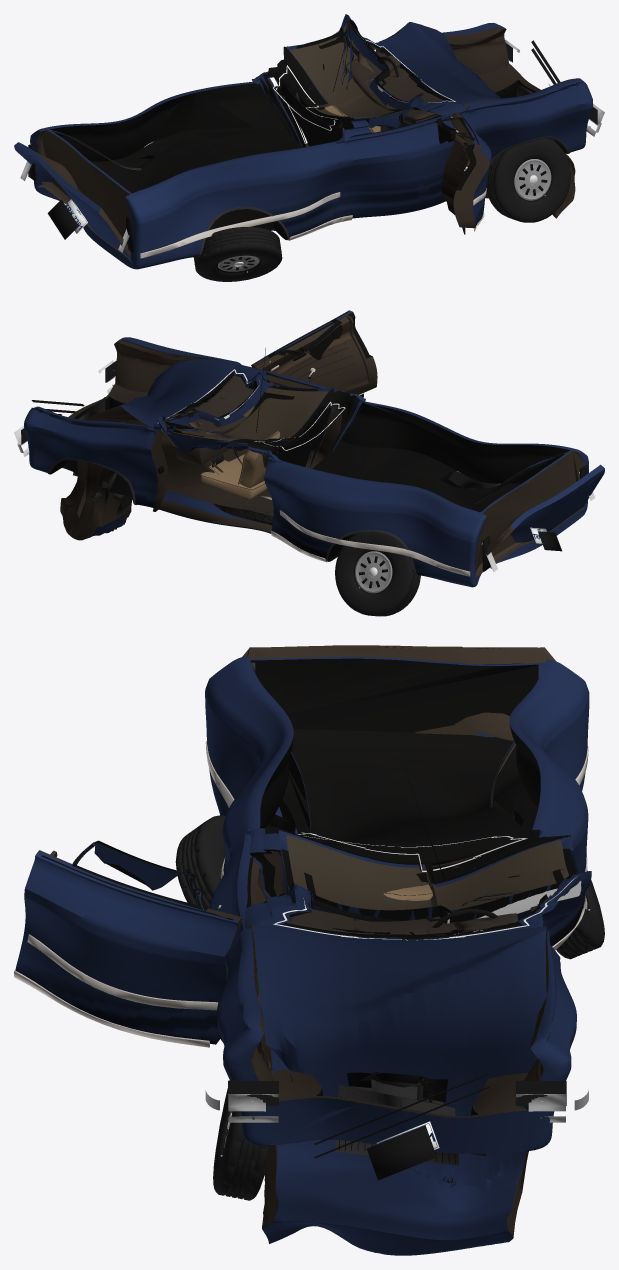
File: pickup87_roll_d3_lod1.glb
3 renders of one model, top to bottom at view 1: azimuth 30°, elevation 25°; view 2: azimuth 150°, elevation 25°; view 3: azimuth 270°, elevation 25°, orthographic. The views are drawn at different scales.
Visible parts, largest first — view 1: Body, Wheel_FR_mesh, Hood, Door_FR, Wheel_RR_mesh, Interior, Tailgate, Trim, Ends, Glass, Trim_FR; view 2: Body, Hood, Wheel_RL_mesh, Door_FR, Interior, Tailgate, Trim, Ends, Trim_FR, Underbody, Glass, Wheel_RR_mesh; view 3: Body, Hood, Door_FR, Ends, Tailgate, Engine, Trim_FR, Interior, Wheel_FR_mesh, Glass, Wheel_RR_mesh, Wheel_RL_mesh (+1 smaller).
Part boxes in pixels (x1,y1,x2,y2): Body: (30,14,592,269); Wheel_FR_mesh: (486,138,570,222); Hood: (378,22,575,218); Door_FR: (435,112,491,228); Wheel_RR_mesh: (193,227,282,281); Interior: (325,52,443,134); Tailgate: (14,142,130,258); Trim: (140,26,569,258); Ends: (20,39,604,252); Glass: (273,19,455,130); Trim_FR: (441,113,486,234); Body: (24,337,588,587); Hood: (60,359,240,540); Wheel_RL_mesh: (335,532,420,616); Door_FR: (251,310,377,394); Interior: (169,376,279,498); Tailgate: (476,464,604,572); Trim: (47,348,500,576); Ends: (14,360,595,572); Trim_FR: (254,312,363,398); Underbody: (73,472,491,568); Glass: (157,369,345,450); Wheel_RR_mesh: (448,471,499,489); Body: (205,656,591,1153); Hood: (247,924,546,1255); Door_FR: (15,840,242,1044); Ends: (205,1073,588,1180); Tailgate: (242,645,555,740); Engine: (335,1072,459,1165); Trim_FR: (14,842,233,1047); Interior: (286,884,518,935); Wheel_FR_mesh: (213,1080,268,1200); Glass: (273,832,581,940); Wheel_RR_mesh: (175,815,225,908); Wheel_RL_mesh: (556,870,604,959).
Size of the model in its own units: 5.3 by 2.1 by 3.06.
28 materials, 5 textured.
